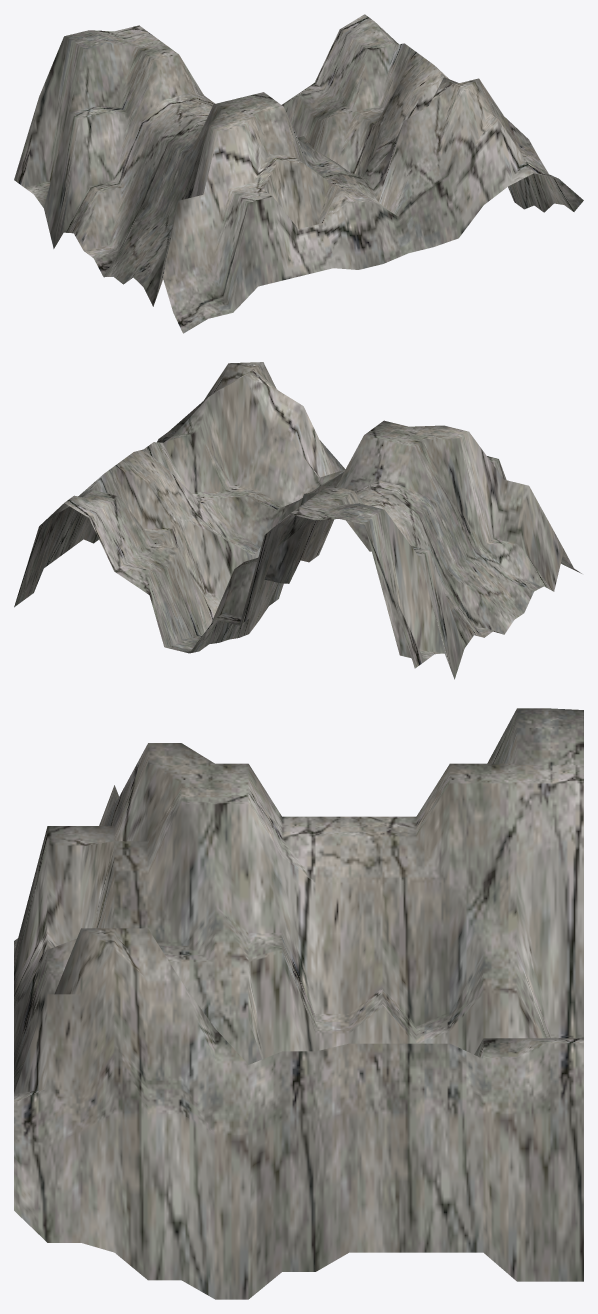
Rendered from DWARF_PALACE_GEAR_ROOM_CELLINGB.fbx.
3 renders of one model, top to bottom at view 1: azimuth 30°, elevation 25°; view 2: azimuth 150°, elevation 25°; view 3: azimuth 270°, elevation 25°, orthographic. The views are drawn at different scales.
Visible parts, largest first — view 1: DWARF_PALACE_GEAR_ROOM_CELLINGB; view 2: DWARF_PALACE_GEAR_ROOM_CELLINGB; view 3: DWARF_PALACE_GEAR_ROOM_CELLINGB.
Part boxes in pixels (<box>): DWARF_PALACE_GEAR_ROOM_CELLINGB: <box>14,14,583,333</box>; DWARF_PALACE_GEAR_ROOM_CELLINGB: <box>14,362,581,679</box>; DWARF_PALACE_GEAR_ROOM_CELLINGB: <box>14,708,583,1299</box>.
Size of the model in its own units: 302974 by 141917 by 221452.
Materials: 1 (1 with a texture image).
